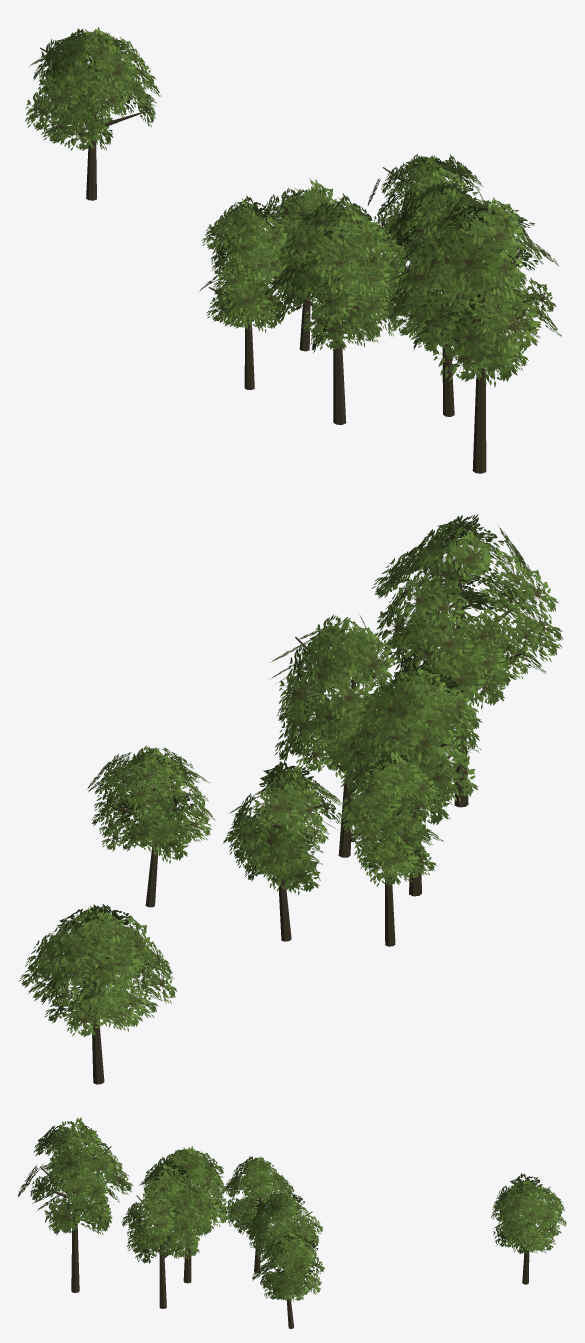
File: TRB8-FOREST-CHUNK-3-5.glb
The picture shows the model from 3 angles, top to bottom: view 1: azimuth 30°, elevation 25°; view 2: azimuth 150°, elevation 25°; view 3: azimuth 270°, elevation 25°; orthographic projection. The views are drawn at different scales.
Visible parts, largest first — view 1: TRB8-FOREST-CHUNK-3-5; view 2: TRB8-FOREST-CHUNK-3-5; view 3: TRB8-FOREST-CHUNK-3-5.
Boxes of the visible parts, bbox=[...] form: TRB8-FOREST-CHUNK-3-5: bbox=[25, 27, 561, 473]; TRB8-FOREST-CHUNK-3-5: bbox=[18, 514, 563, 1084]; TRB8-FOREST-CHUNK-3-5: bbox=[18, 1117, 566, 1328].
Size of the model in its own units: 6.83 by 6.12 by 17.28.
Materials: 2 (1 with a texture image).
